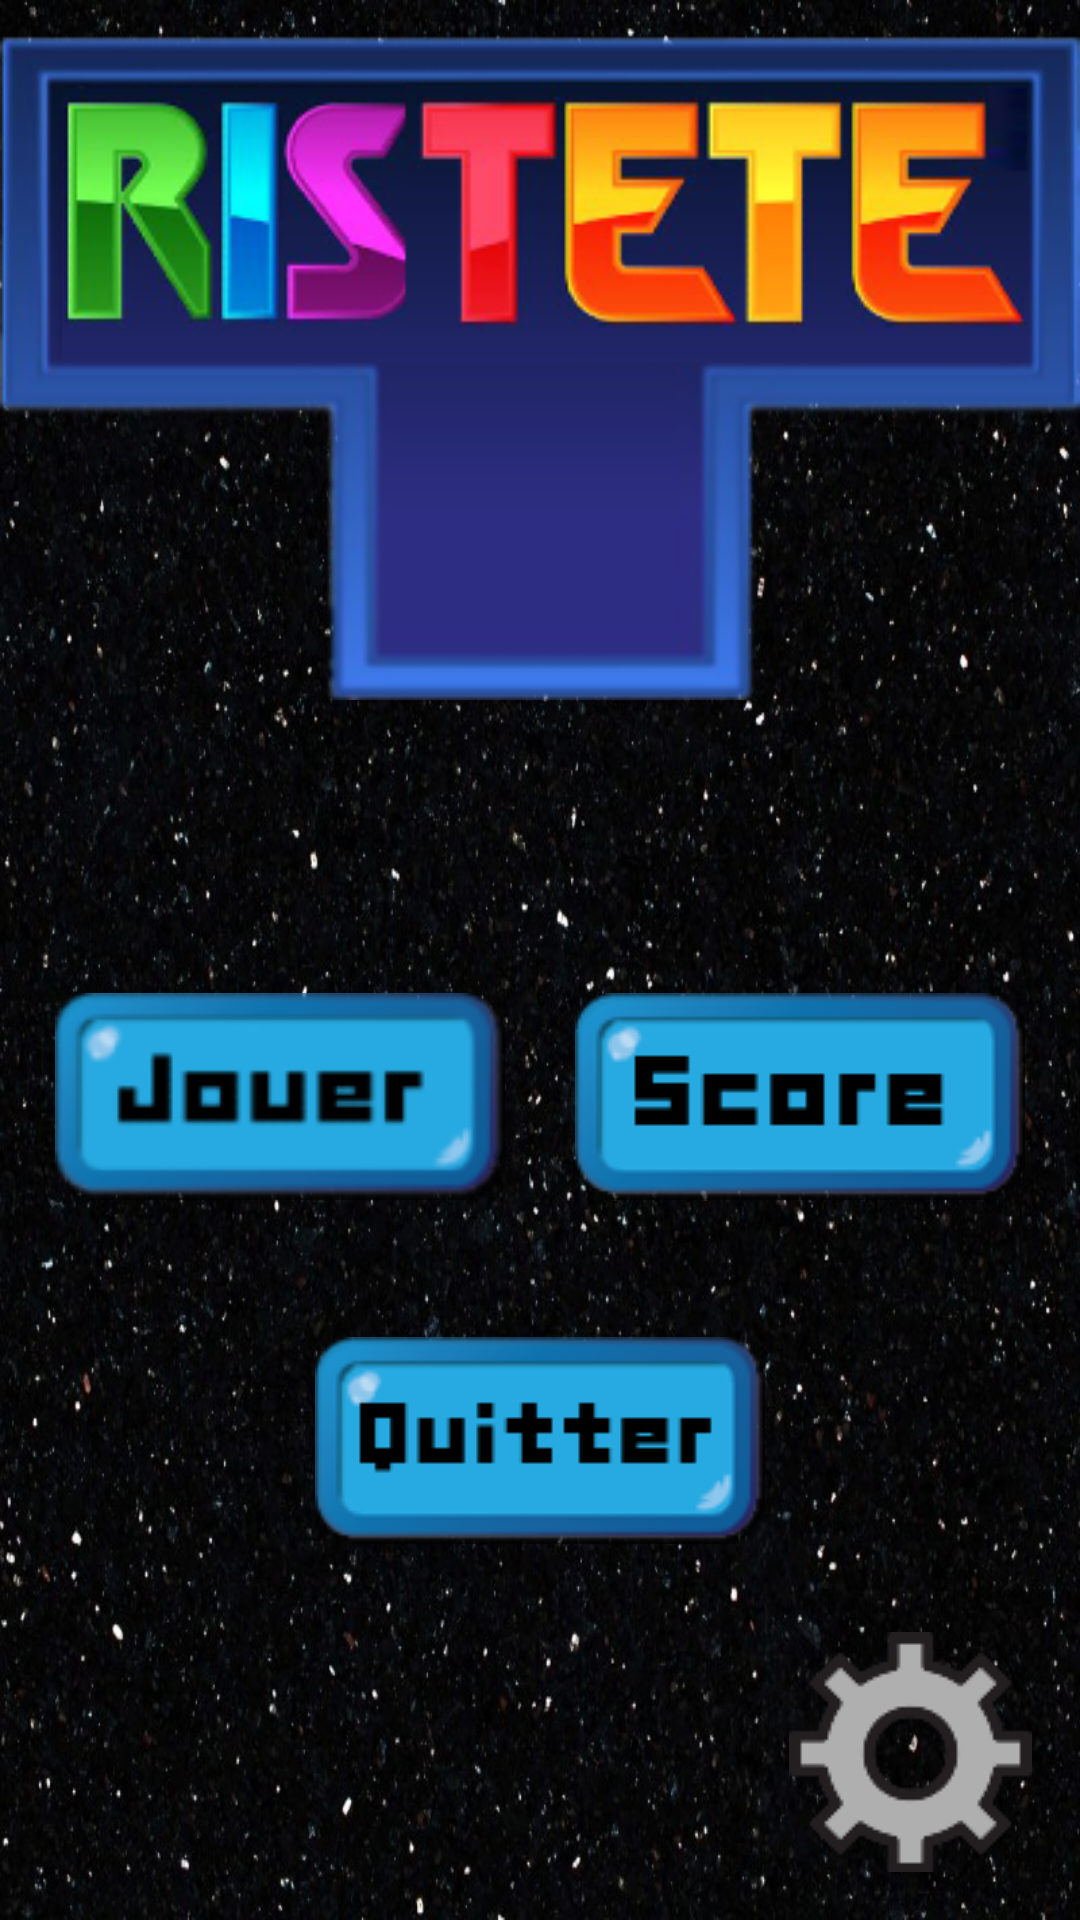

Locate icon controls on the screen. Image size 1080 × 1920, boxes as (x1, y1, x2, y2).
parametres: (789, 1632, 1032, 1872)
